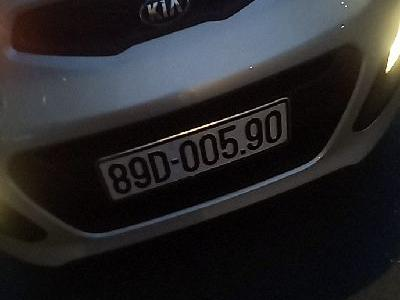number: (95, 94, 290, 206)
